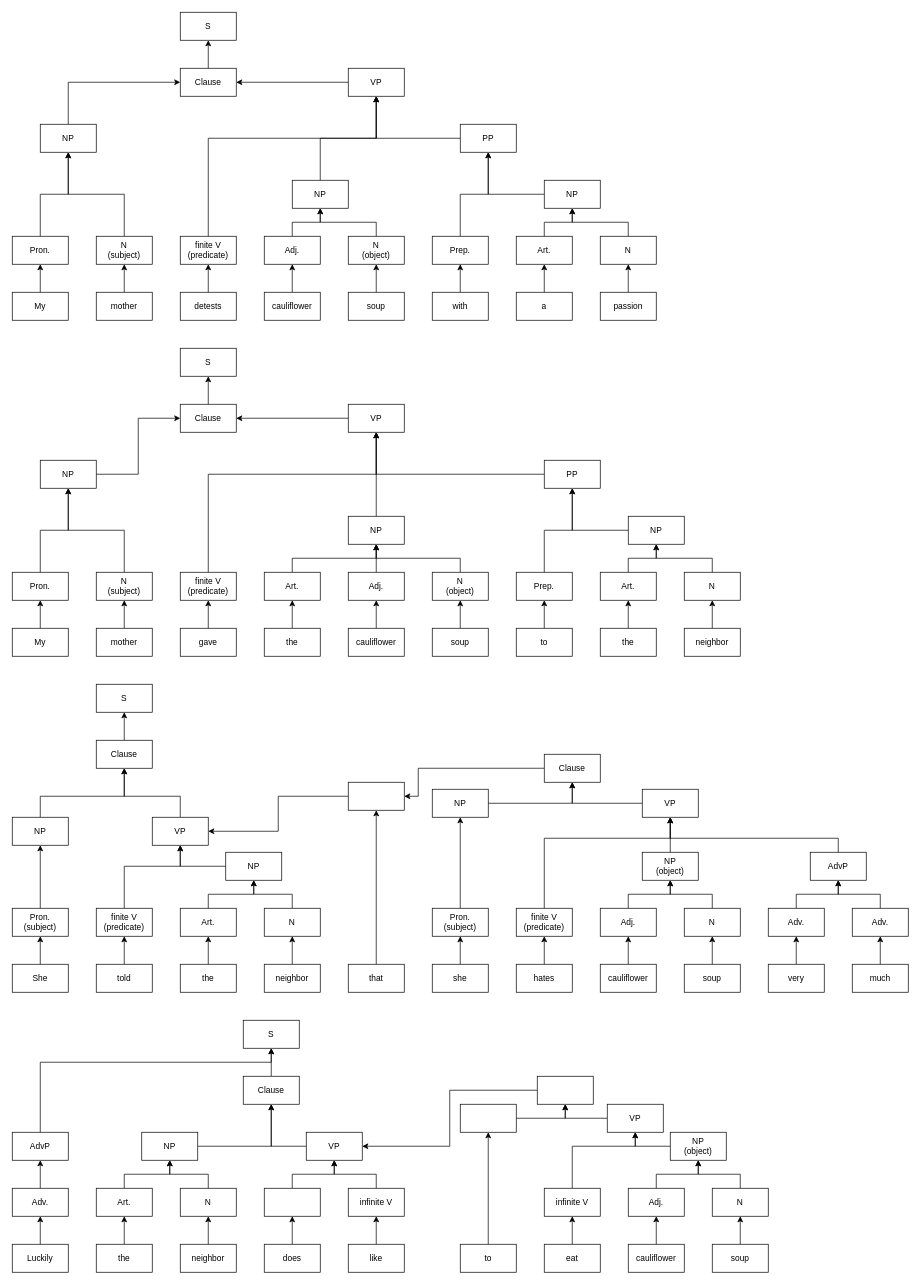
Some shapes in this 921 by 1285 pixel diagram are drawn without their labels. Here are the shapes that lost their labels. From the top down, the box of each, then its label:
(348, 782, 404, 810): Subord. Conj.
(537, 1076, 593, 1104): Compl. Clause
(460, 1104, 516, 1132): Part. (intr. infinitive)
(264, 1188, 320, 1216): aux V (predicate)
